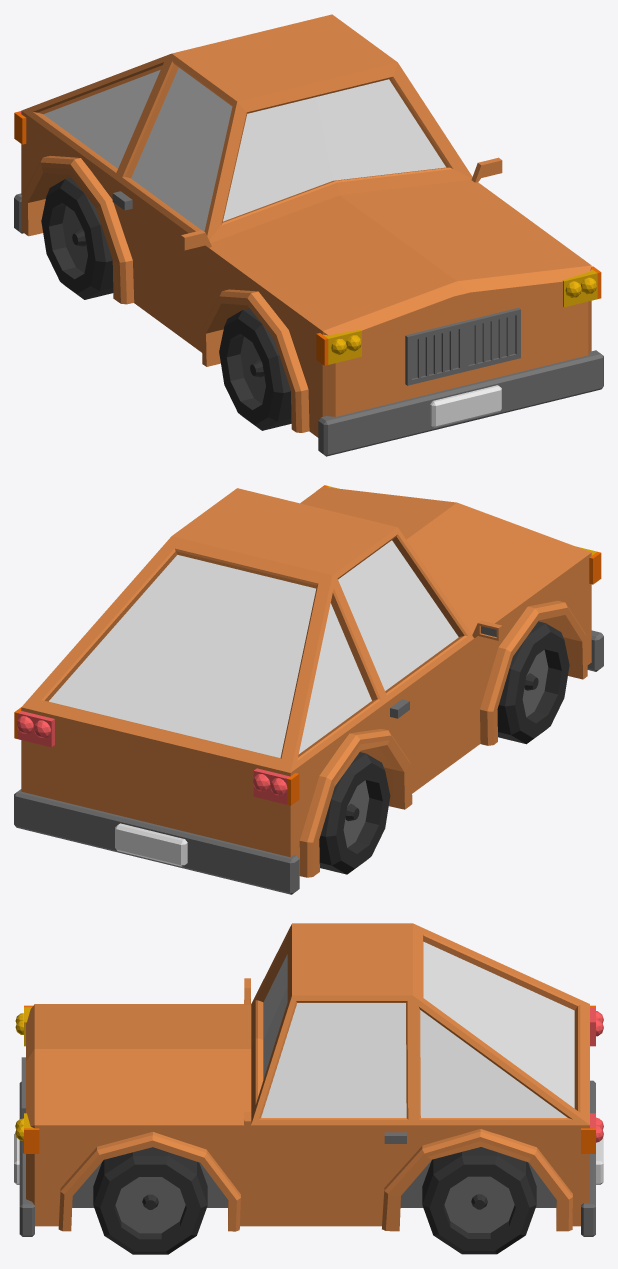
File: Car B.fbx
The picture shows the model from 3 angles, top to bottom: view 1: azimuth 30°, elevation 25°; view 2: azimuth 150°, elevation 25°; view 3: azimuth 270°, elevation 25°; orthographic projection. The views are drawn at different scales.
Visible parts, largest first — view 1: Car B; view 2: Car B; view 3: Car B.
Part boxes in pixels (x1,y1,x2,y2): Car B: (14,14,603,456); Car B: (14,485,603,894); Car B: (14,923,603,1254).
Bounding box in the file's own units: 167 × 126 × 291.
